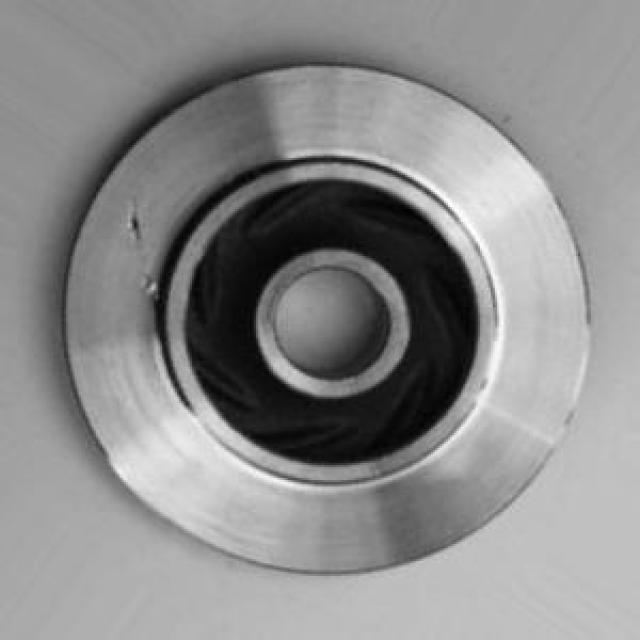Defect: (120, 203, 151, 249)
